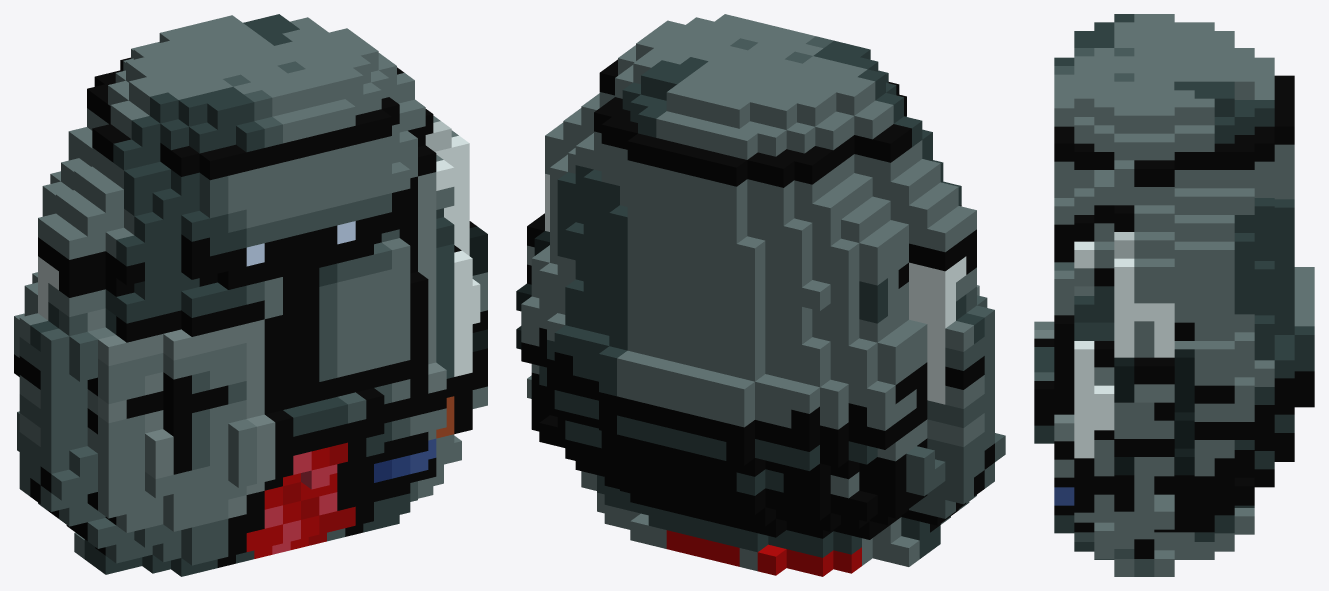
File: Icon_737_01.obj
3 renders of one model, left to right at view 1: azimuth 30°, elevation 25°; view 2: azimuth 150°, elevation 25°; view 3: azimuth 270°, elevation 25°, orthographic. The views are drawn at different scales.
Size of the model in its own units: 2.4 by 2.4 by 1.4.
Materials: 1 (1 with a texture image).
